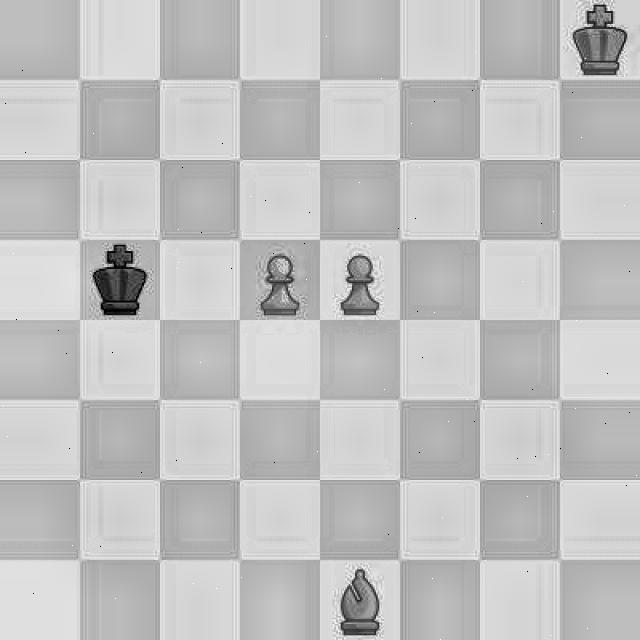black king: (88, 238, 162, 320)
white bishop: (324, 563, 396, 640)
white king: (569, 0, 640, 82)
white pawn: (242, 237, 318, 321), (326, 243, 394, 320)
